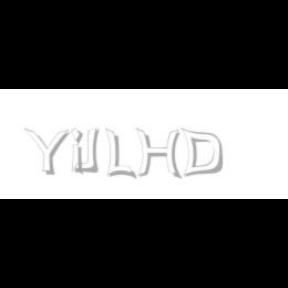D: (180, 128, 224, 178)
H: (135, 128, 181, 180)
J: (74, 128, 98, 172)
L: (106, 128, 134, 180)
Y: (24, 128, 70, 176)
i: (71, 128, 87, 176)
